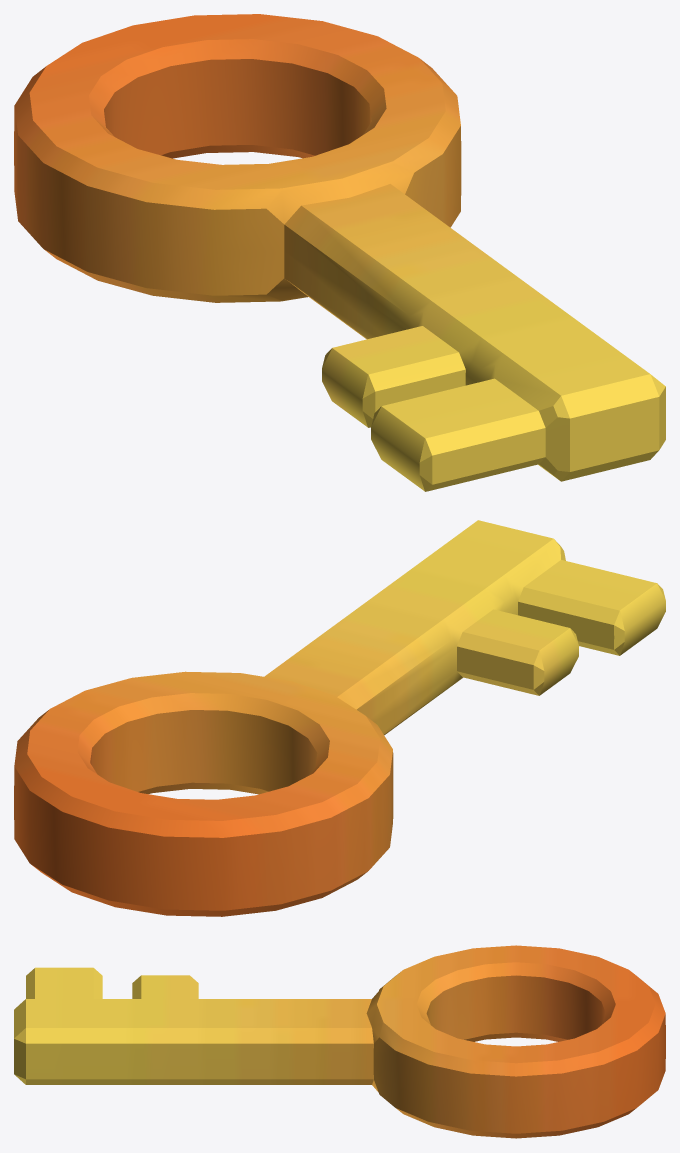
Rendered from key.fbx.
The picture shows the model from 3 angles, top to bottom: view 1: azimuth 30°, elevation 25°; view 2: azimuth 150°, elevation 25°; view 3: azimuth 270°, elevation 25°; orthographic projection. The views are drawn at different scales.
Visible parts, largest first — view 1: key; view 2: key; view 3: key.
Boxes of the visible parts, <box> form: key: <box>14,14,665,491</box>; key: <box>14,520,665,916</box>; key: <box>14,945,665,1138</box>.
Bounding box in the file's own units: 125 × 34.65 × 272.
1 material, 1 textured.
